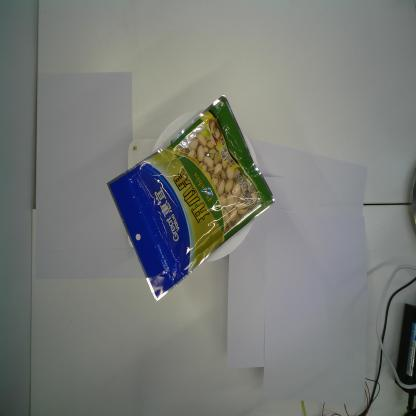Dried Fruit: (106, 91, 278, 305)
